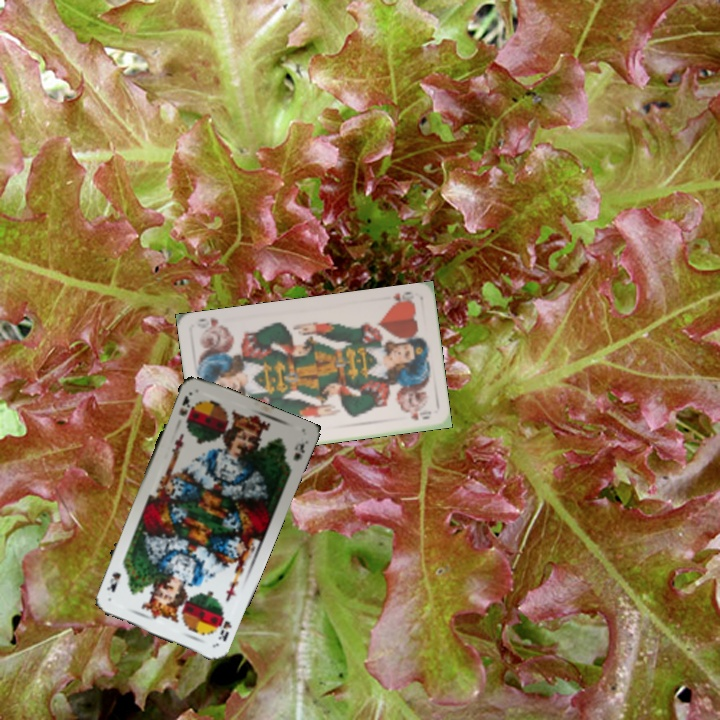HO: (388, 287, 417, 309)
SK: (212, 607, 234, 644), (175, 391, 196, 425)
